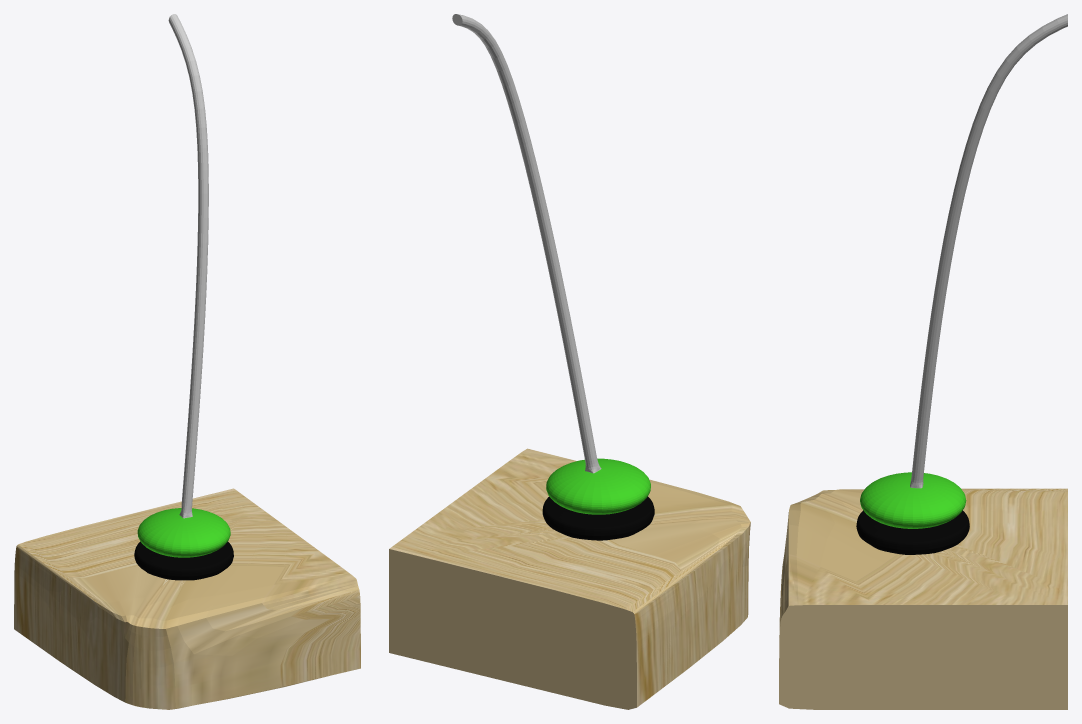
Rendered from 6_Motorikschleife subdiv.fbx.
3 renders of one model, left to right at view 1: azimuth 30°, elevation 25°; view 2: azimuth 150°, elevation 25°; view 3: azimuth 270°, elevation 25°, orthographic. The views are drawn at different scales.
Parts seen in each view (by area): view 1: Cube.006; view 2: Cube.006; view 3: Cube.006.
Boxes of the visible parts, box(x1,y1,x2,y2) form: Cube.006: box(14, 14, 360, 709); Cube.006: box(389, 14, 750, 709); Cube.006: box(779, 14, 1067, 709).
Size of the model in its own units: 499 by 1260 by 499.
